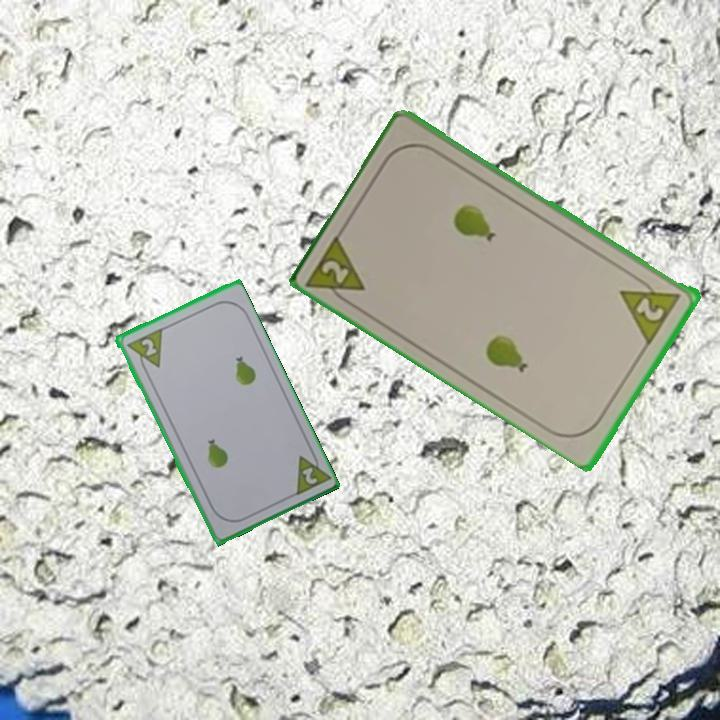2p: (303, 228, 369, 311), (289, 445, 331, 499), (123, 324, 165, 376), (632, 293, 668, 325)
